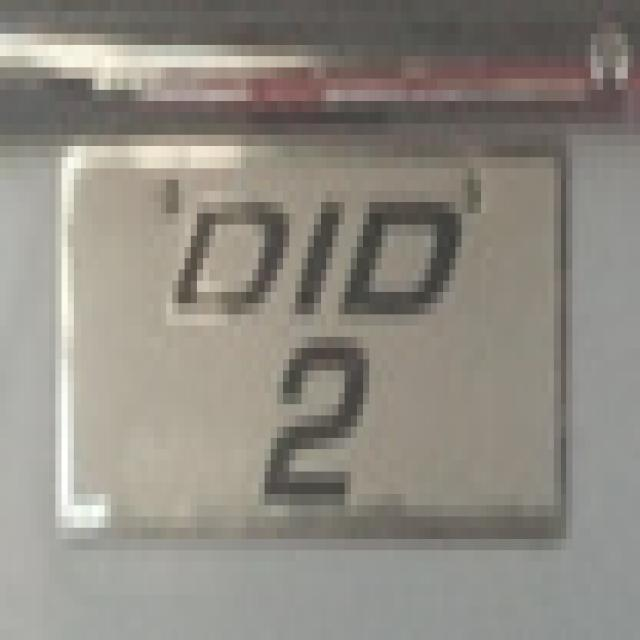1: (288, 170, 344, 338)
D: (346, 160, 464, 340), (165, 184, 286, 344)
